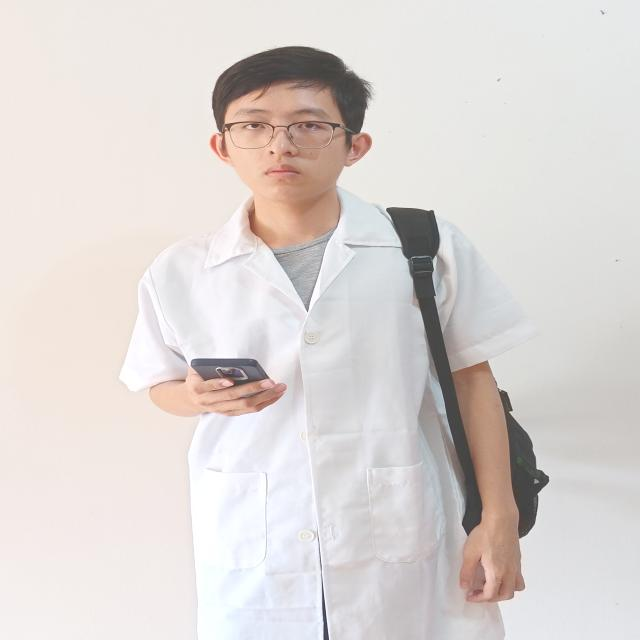person_with_labcoat: (120, 46, 548, 640)
